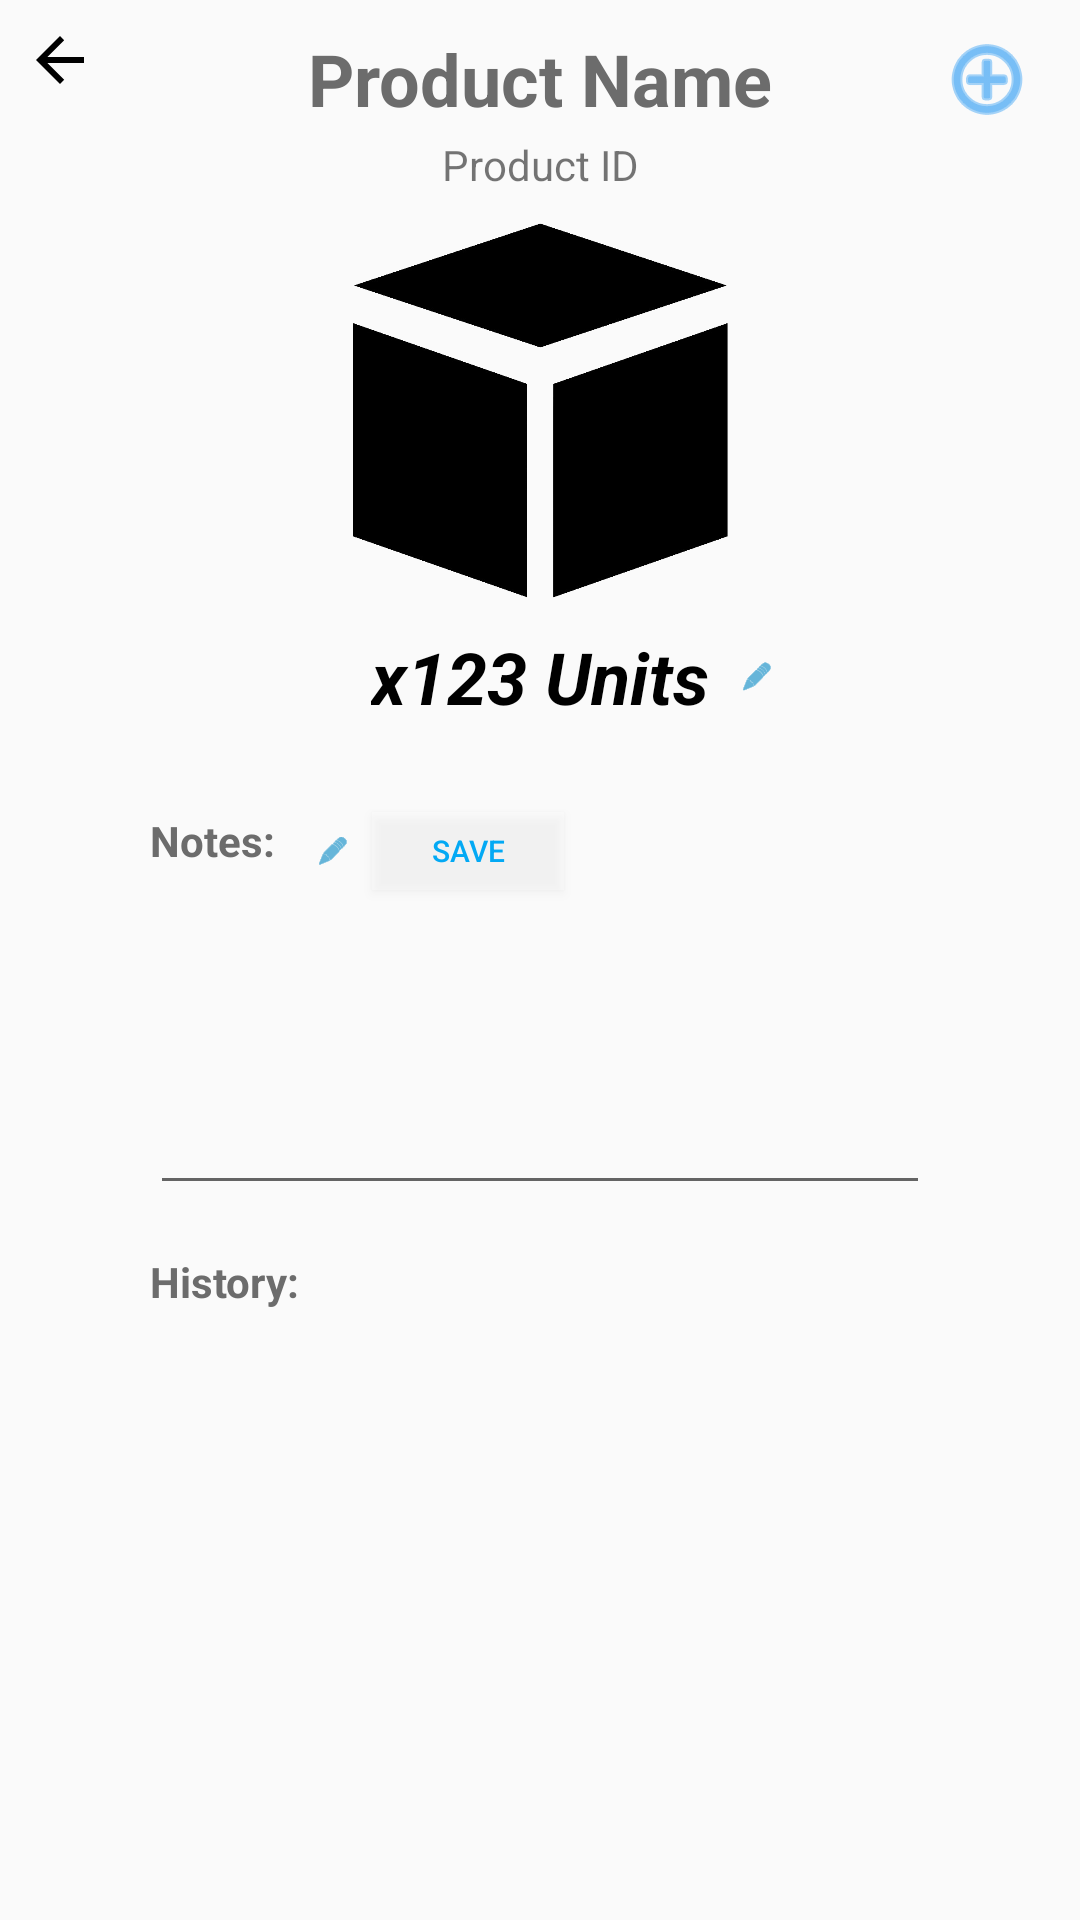

Point at icon controls on the screen. Image size 1080 × 1920, points as point (x, y).
add: point (987, 79)
